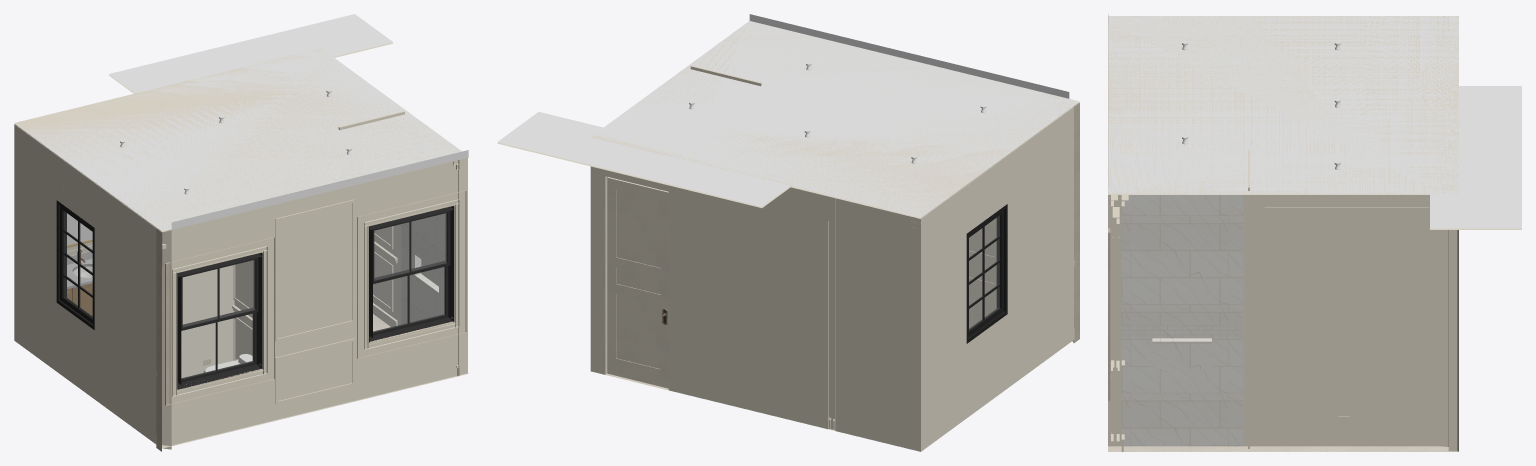
File: primary-bath-1fa908e4a5b7.glb
3 views of the same model, side by side, from view 1: azimuth 30°, elevation 25°; view 2: azimuth 150°, elevation 25°; view 3: azimuth 270°, elevation 25° (orthographic). The views are drawn at different scales.
Parts seen in each view (by area): view 1: primary-bath-b0ade14315e4f1c3, primary-bath-9d91b47435c6fb33, primary-bath-e8793759323e04f0, primary-bath-c51ecd664a3b22a3, primary-bath-60f0db96f832035a, primary-bath-b5cb73c07919def8, primary-bath-look-9d91b47435c6fb33, primary-bath-10eba734bfa580f9, primary-bath-20932135983111ad, primary-bath-62353aa10fc57f23, primary-bath-696f63e7cd8f31cf, primary-bath-2bc0761cc32b9613 (+9 smaller); view 2: primary-bath-9ecc0d558be1c706, primary-bath-9d91b47435c6fb33, primary-bath-c51ecd664a3b22a3, primary-bath-e8793759323e04f0, primary-bath-18f70a4a9eda5dac, primary-bath-look-9d91b47435c6fb33, primary-bath-20932135983111ad, primary-bath-25ea03c5717987c5, primary-bath-e48b5483df8cacdb, primary-bath-b88ac105ef7c3bdb, primary-bath-62353aa10fc57f23; view 3: primary-bath-9d91b47435c6fb33, primary-bath-fc6585fecfaf7ec3, primary-bath-e8793759323e04f0, primary-bath-3d8660a29b1e398e, primary-bath-2bc0761cc32b9613, primary-bath-look-9d91b47435c6fb33, primary-bath-c791a0f218fead78, primary-bath-9ecc0d558be1c706, primary-bath-343da8f45fc39332, primary-bath-b3921aced1f99593, primary-bath-b3dc771ed6f89851, primary-bath-38b306e83be12a4b (+8 smaller).
Boxes of the visible parts, box(x1,y1,x2,y2) form: primary-bath-b0ade14315e4f1c3: box(171, 157, 467, 445); primary-bath-9d91b47435c6fb33: box(14, 48, 468, 232); primary-bath-e8793759323e04f0: box(14, 48, 468, 230); primary-bath-c51ecd664a3b22a3: box(14, 124, 156, 444); primary-bath-60f0db96f832035a: box(177, 252, 262, 389); primary-bath-b5cb73c07919def8: box(369, 206, 454, 342); primary-bath-look-9d91b47435c6fb33: box(109, 14, 393, 93); primary-bath-10eba734bfa580f9: box(184, 265, 234, 377); primary-bath-20932135983111ad: box(56, 200, 94, 329); primary-bath-62353aa10fc57f23: box(156, 228, 171, 451); primary-bath-696f63e7cd8f31cf: box(172, 246, 267, 396); primary-bath-2bc0761cc32b9613: box(401, 244, 444, 324); primary-bath-9ecc0d558be1c706: box(590, 166, 919, 451); primary-bath-9d91b47435c6fb33: box(591, 21, 1079, 218); primary-bath-c51ecd664a3b22a3: box(911, 107, 1073, 451); primary-bath-e8793759323e04f0: box(591, 14, 1075, 217); primary-bath-18f70a4a9eda5dac: box(607, 177, 668, 388); primary-bath-look-9d91b47435c6fb33: box(497, 112, 790, 207); primary-bath-20932135983111ad: box(966, 204, 1007, 343); primary-bath-25ea03c5717987c5: box(969, 218, 996, 328); primary-bath-e48b5483df8cacdb: box(827, 196, 836, 430); primary-bath-b88ac105ef7c3bdb: box(603, 174, 669, 390); primary-bath-62353aa10fc57f23: box(1072, 103, 1079, 342); primary-bath-9d91b47435c6fb33: box(1108, 16, 1458, 194); primary-bath-fc6585fecfaf7ec3: box(1248, 193, 1458, 451); primary-bath-e8793759323e04f0: box(1108, 14, 1458, 193); primary-bath-3d8660a29b1e398e: box(1121, 195, 1242, 324); primary-bath-2bc0761cc32b9613: box(1121, 338, 1242, 446); primary-bath-look-9d91b47435c6fb33: box(1430, 86, 1521, 229); primary-bath-c791a0f218fead78: box(1108, 189, 1247, 451); primary-bath-9ecc0d558be1c706: box(1447, 230, 1458, 451); primary-bath-343da8f45fc39332: box(1253, 434, 1439, 446); primary-bath-b3921aced1f99593: box(1108, 446, 1457, 451); primary-bath-b3dc771ed6f89851: box(1264, 207, 1428, 352); primary-bath-38b306e83be12a4b: box(1121, 324, 1242, 338).
Size of the model in its own units: 5.14 by 3.04 by 4.23.
Materials: 38 (8 with a texture image).
